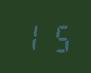five: (45, 20, 70, 54)
one: (19, 18, 44, 52)
